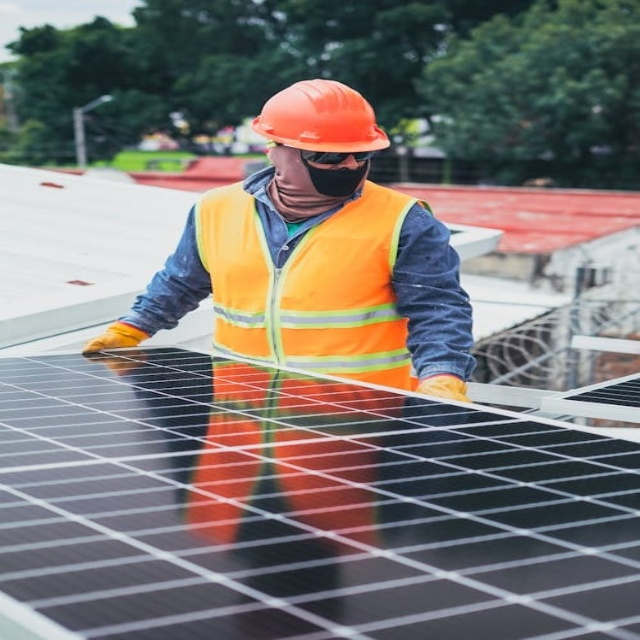Gafas: (289, 148, 383, 166)
Guantes: (79, 320, 148, 360), (413, 368, 475, 408)
Mascara: (299, 152, 368, 197)
